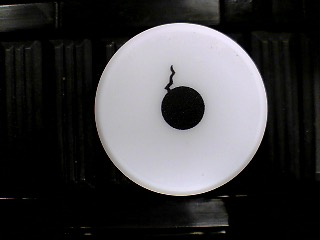CRACK: (93, 21, 268, 196)
